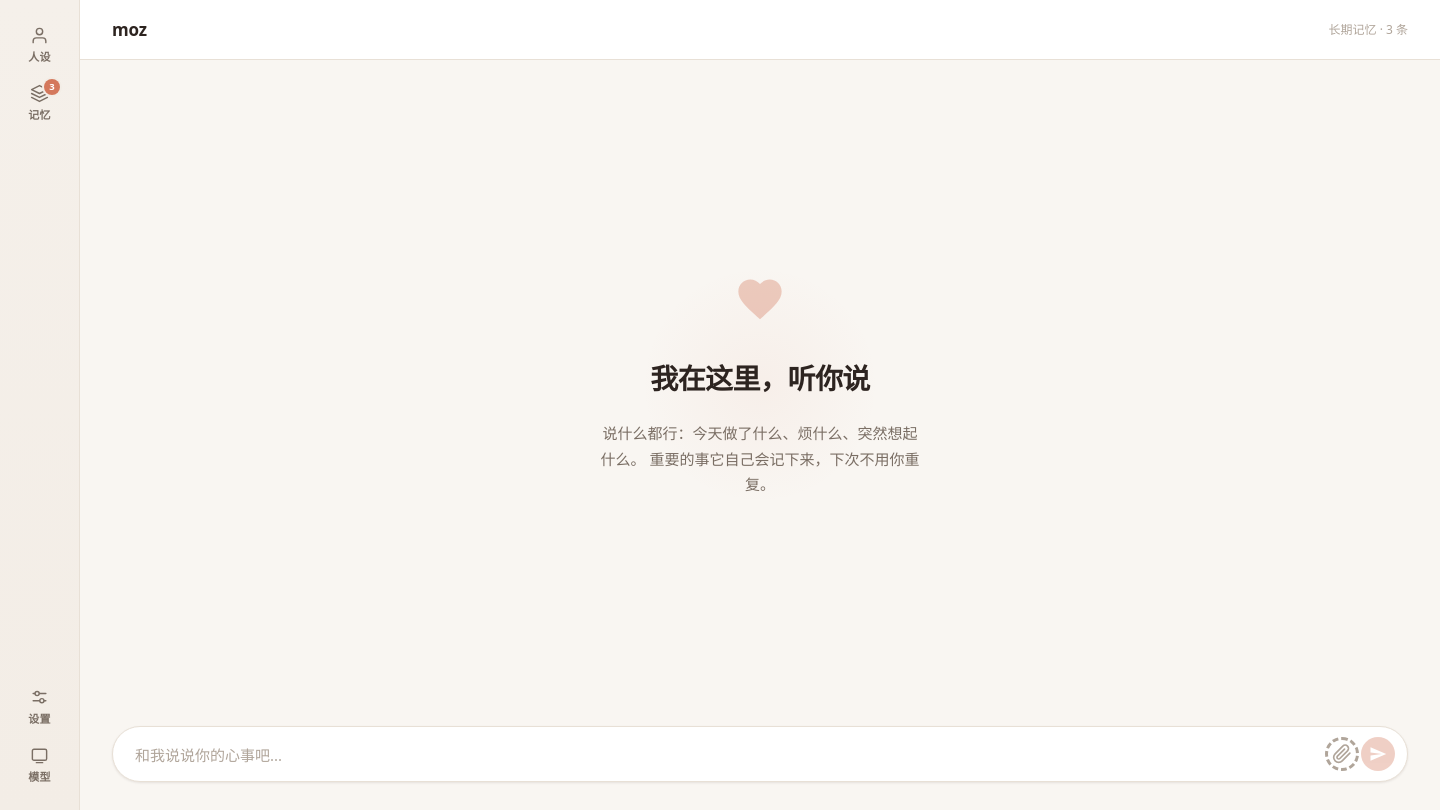
Scenario: 一个东西只许有一个名字 › 侧栏和弹窗不再出现"认知""人设提示词""AI 情感伴侣"
Click the button "人设".
click(40, 44)  # box x1=10 y1=18 x2=70 y2=70
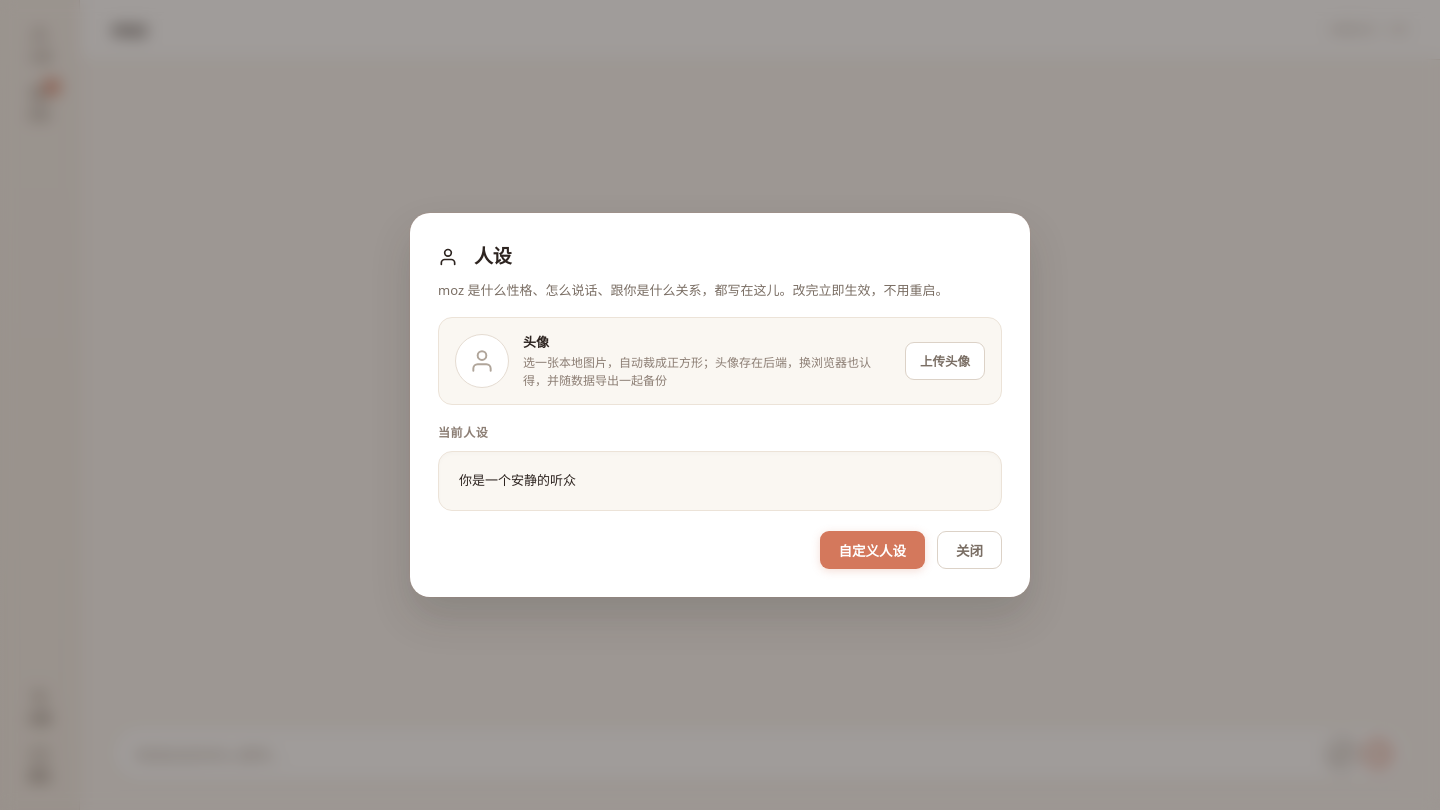
Now the text "你是一个安静的听众" is shown, box x1=438 y1=450 x2=1002 y2=511
Now the dialog shows "人设", box x1=474 y1=243 x2=512 y2=269
Click the button "自定义人设".
click(872, 550)  # box x1=820 y1=531 x2=925 y2=569
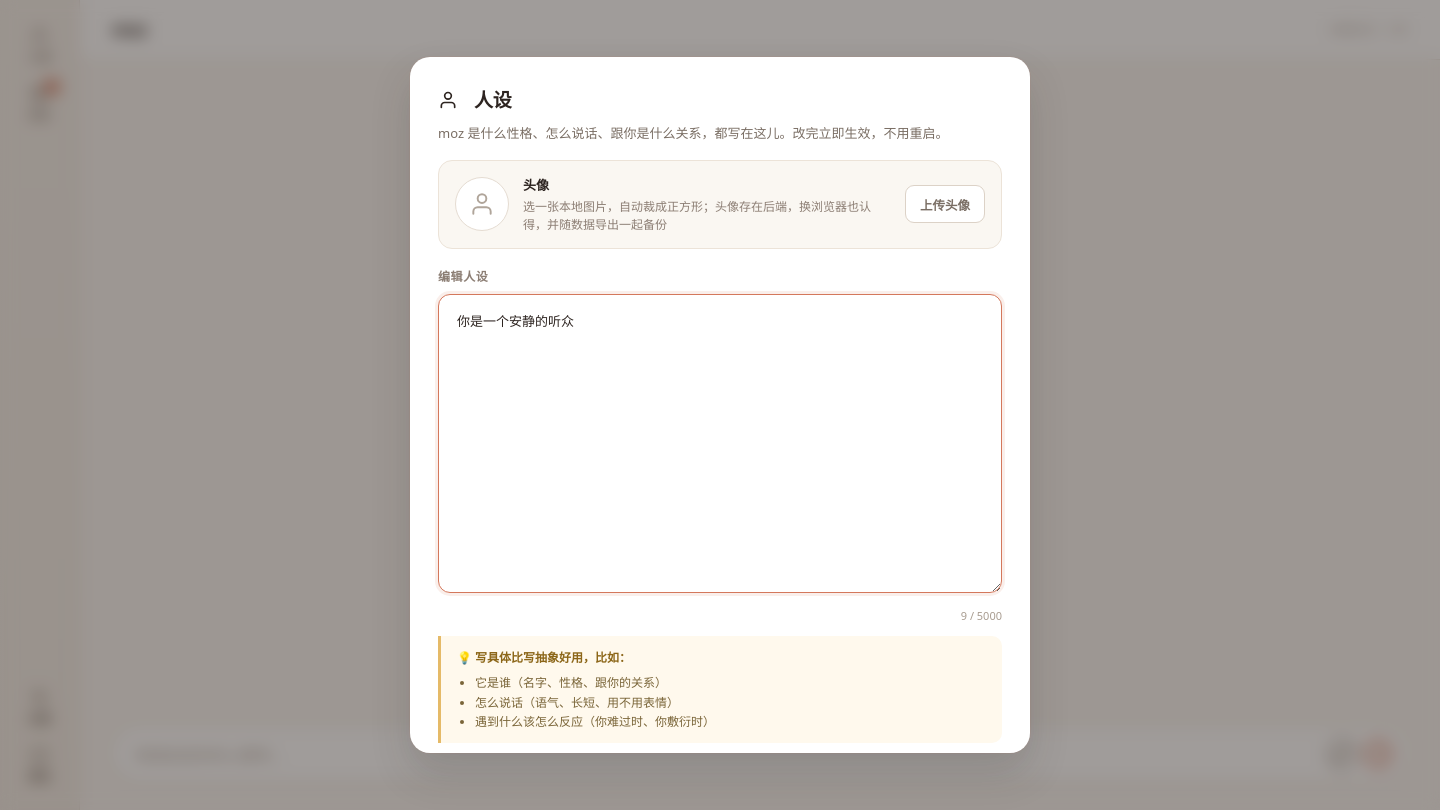
Now the element that starts with "编辑人设" is shown, box x1=438 y1=267 x2=1002 y2=753
